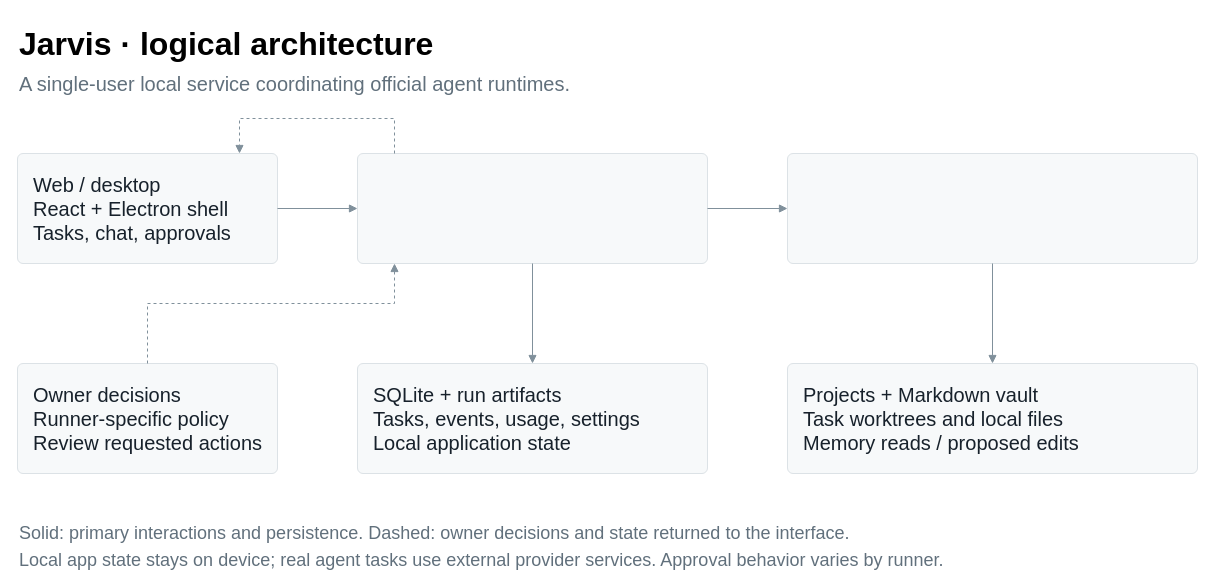
Some shapes in this 1219 by 587 pixel diagram are drawn without their labels. Here are the shapes that lost their labels. From the top down, the centre of each, then its label:
At point (532, 208): "Local Hono service API, event stream, scheduler Task routing + memory context".
At point (992, 208): "Agent runtimes Claude Agent SDK / Codex SDK Authenticated CLI sessions".
